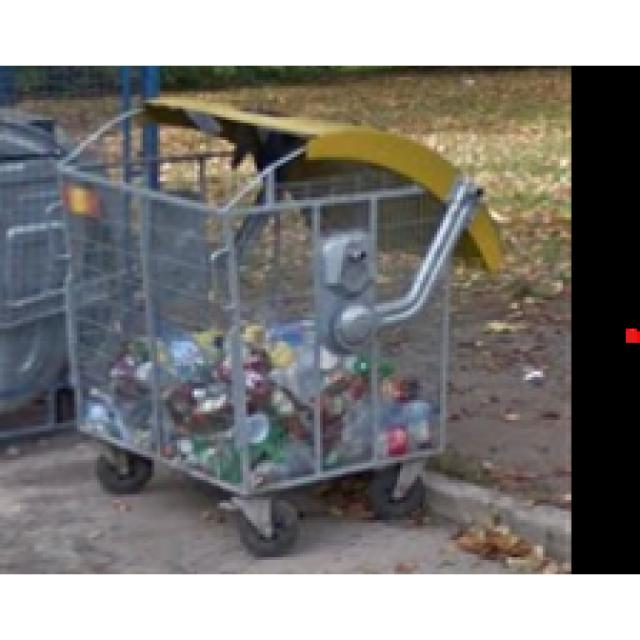plastic trash bin: (57, 103, 507, 556)
